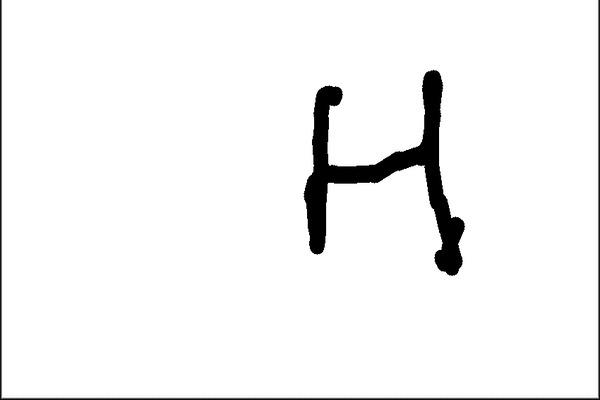H: (300, 66, 467, 280)
